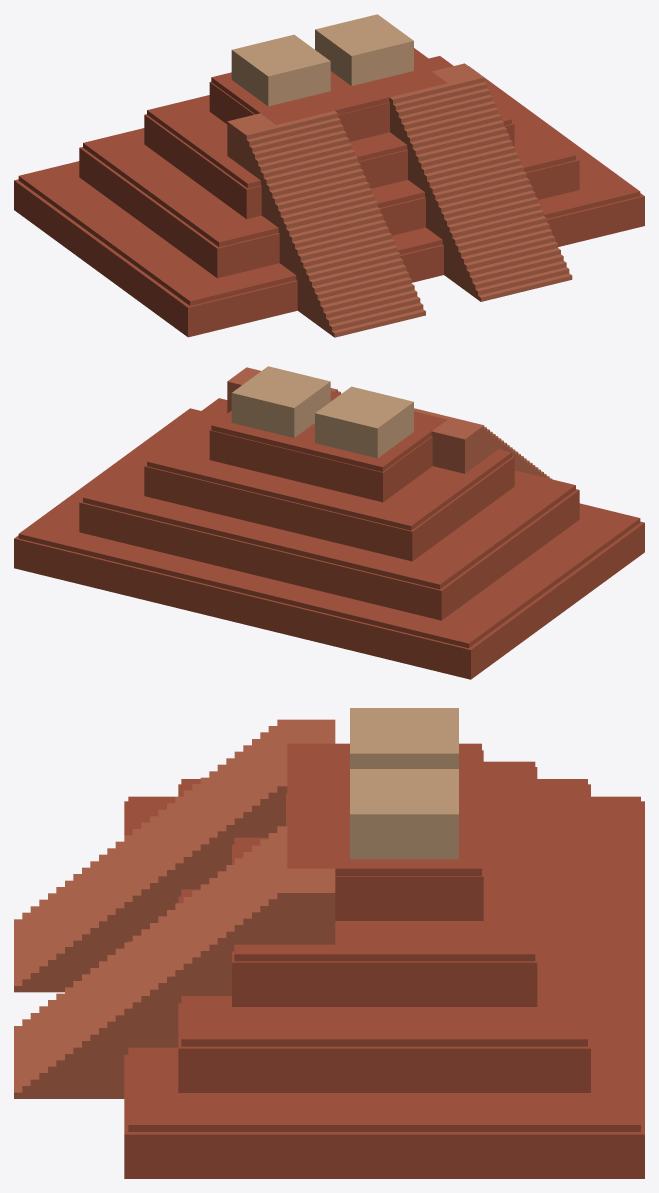
Rendered from meso-templo-mayor.glb.
The picture shows the model from 3 angles, top to bottom: view 1: azimuth 30°, elevation 25°; view 2: azimuth 150°, elevation 25°; view 3: azimuth 270°, elevation 25°; orthographic projection. The views are drawn at different scales.
Visible parts, largest first — view 1: meso-body, meso-stair, meso-shrine; view 2: meso-body, meso-shrine, meso-stair; view 3: meso-body, meso-stair, meso-shrine.
Boxes of the visible parts, x1=… form: meso-body: x1=14, y1=48, x2=644, y2=337; meso-stair: x1=227, y1=63, x2=572, y2=337; meso-shrine: x1=231, y1=14, x2=413, y2=106; meso-body: x1=14, y1=391, x2=644, y2=679; meso-shrine: x1=231, y1=366, x2=413, y2=458; meso-stair: x1=227, y1=367, x2=551, y2=479; meso-body: x1=124, y1=743, x2=644, y2=1178; meso-stair: x1=14, y1=719, x2=335, y2=1098; meso-shrine: x1=350, y1=708, x2=458, y2=859.
Bounding box in the file's own units: 100 × 35.1 × 79.99.
